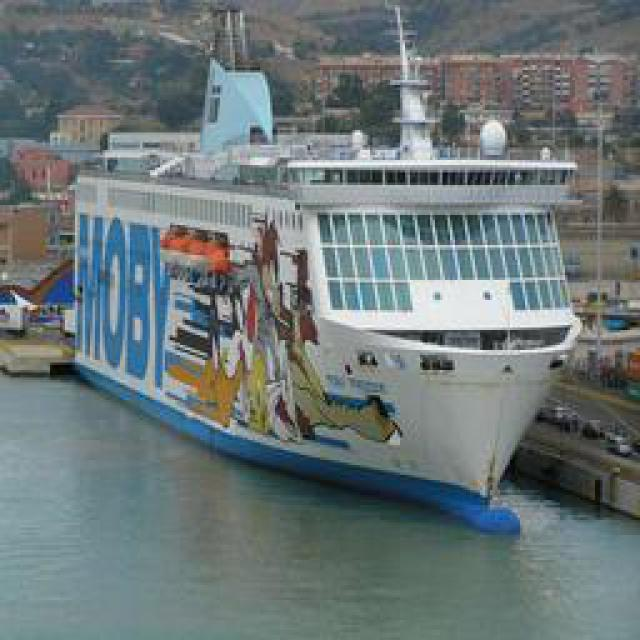Ship: (74, 100, 577, 525)
